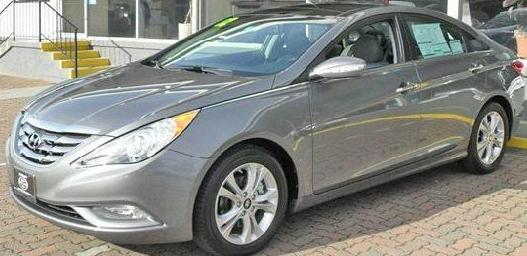front_view: (4, 90, 205, 247)
headlight: (71, 104, 203, 171)
side_glass: (289, 4, 493, 84)
